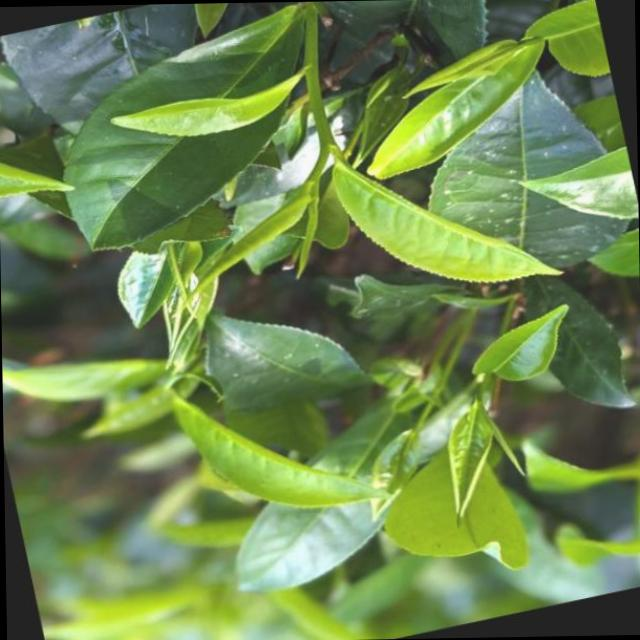Stem: (319, 135, 332, 148)
